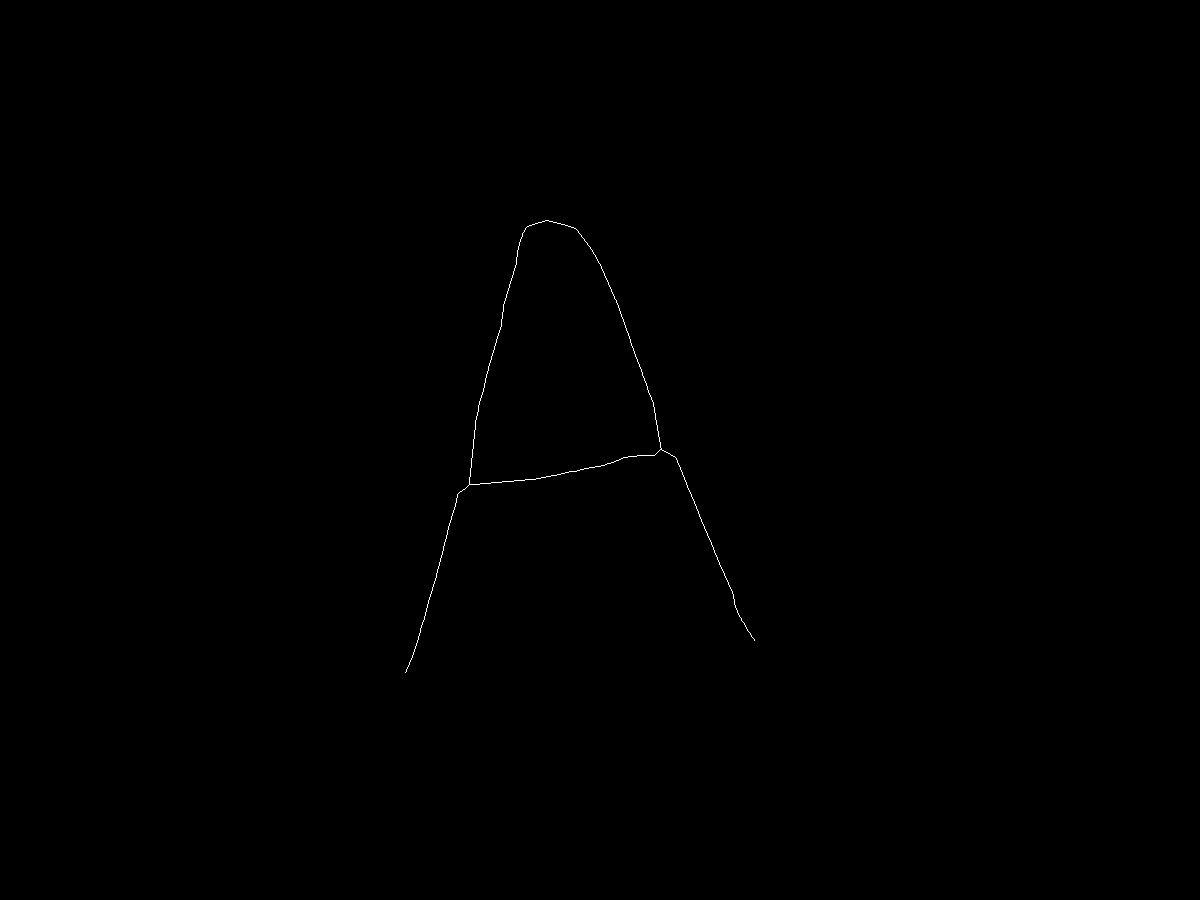dian1: (532, 210, 551, 229)
dian2: (464, 476, 480, 492)
dian3: (399, 662, 415, 678)
dian4: (647, 442, 670, 465)
dian5: (738, 628, 760, 650)
